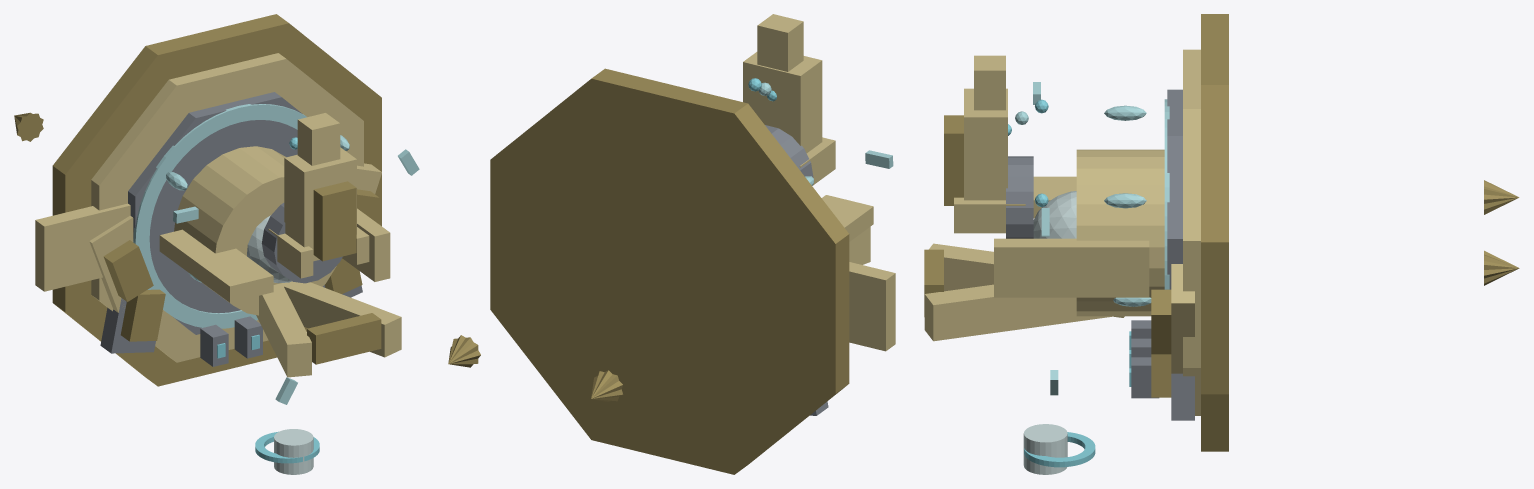
Rendered from helias_photon_cannon.glb.
3 views of the same model, side by side, from view 1: azimuth 30°, elevation 25°; view 2: azimuth 150°, elevation 25°; view 3: azimuth 270°, elevation 25° (orthographic). The views are drawn at different scales.
Visible parts, largest first — view 1: base_outer, base_mid, base_inner, core_shell, energy_ring_outer, front_prong, fin_1, turret_head, back_arch_left, turret_head_top, back_arch_right, back_bridge (+18 smaller); view 2: base_outer, turret_head, front_prong, emitter_frame, fin_1, gimbal_support_0, tracking_base, back_arch_right, fin_tip_2; view 3: base_outer, core_shell, fin_0, back_arch_left, base_mid, turret_head, base_inner, tracking_base, back_arch_right, wing_1, gimbal_support_1, emitter_frame (+11 smaller).
Part boxes in pixels (left/top/right/bottom): base_outer: left=52, top=14, right=381, bottom=386; base_mid: left=91, top=53, right=363, bottom=362; base_inner: left=128, top=92, right=302, bottom=334; core_shell: left=174, top=146, right=336, bottom=315; energy_ring_outer: left=133, top=104, right=306, bottom=328; front_prong: left=35, top=203, right=130, bottom=291; fin_1: left=159, top=229, right=273, bottom=302; turret_head: left=284, top=147, right=356, bottom=261; back_arch_left: left=282, top=281, right=401, bottom=357; turret_head_top: left=313, top=181, right=356, bottom=261; back_arch_right: left=256, top=283, right=311, bottom=377; back_bridge: left=307, top=313, right=381, bottom=364; base_outer: left=490, top=68, right=849, bottom=474; turret_head: left=743, top=52, right=822, bottom=153; front_prong: left=849, top=262, right=895, bottom=351; emitter_frame: left=757, top=14, right=803, bottom=71; fin_1: left=821, top=195, right=873, bottom=241; gimbal_support_0: left=799, top=137, right=835, bottom=185; tracking_base: left=765, top=125, right=813, bottom=177; back_arch_right: left=849, top=227, right=870, bottom=264; fin_tip_2: left=448, top=337, right=480, bottom=367; base_outer: left=1201, top=14, right=1228, bottom=451; core_shell: left=1076, top=149, right=1164, bottom=316; fin_0: left=994, top=238, right=1149, bottom=297; back_arch_left: left=924, top=284, right=1112, bottom=341; base_mid: left=1183, top=49, right=1200, bottom=415; turret_head: left=964, top=88, right=1007, bottom=200; base_inner: left=1167, top=89, right=1182, bottom=289; tracking_base: left=1006, top=156, right=1033, bottom=238; back_arch_right: left=929, top=243, right=1124, bottom=317; wing_1: left=1171, top=264, right=1194, bottom=373; gimbal_support_1: left=954, top=197, right=1025, bottom=233; emitter_frame: left=974, top=55, right=1005, bottom=110.
Size of the model in its own units: 2.24 by 2.31 by 2.99.
